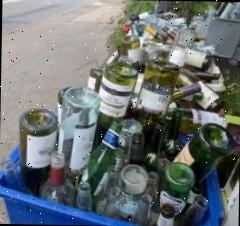glass: (16, 57, 236, 226)
